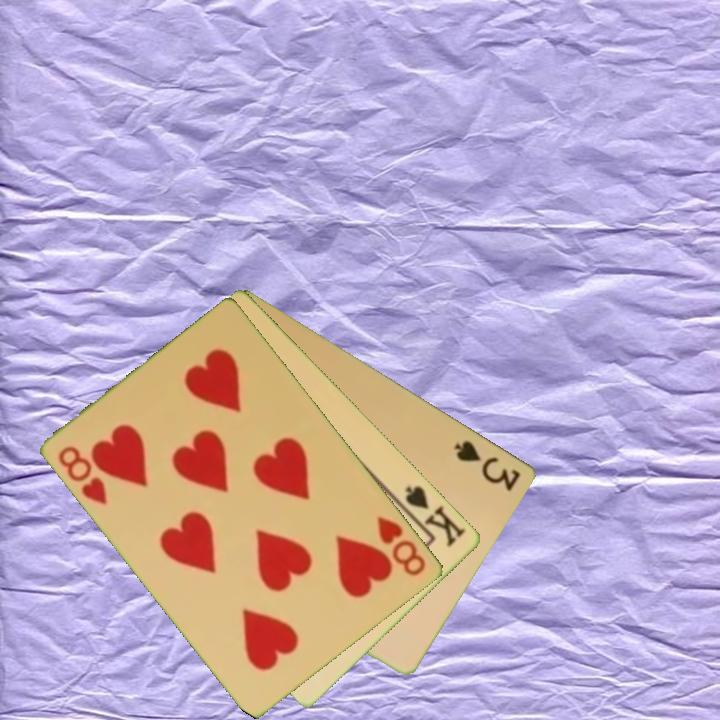3s: (451, 436, 524, 494)
8h: (373, 512, 429, 579), (55, 442, 111, 509)
Ks: (393, 482, 470, 550)
